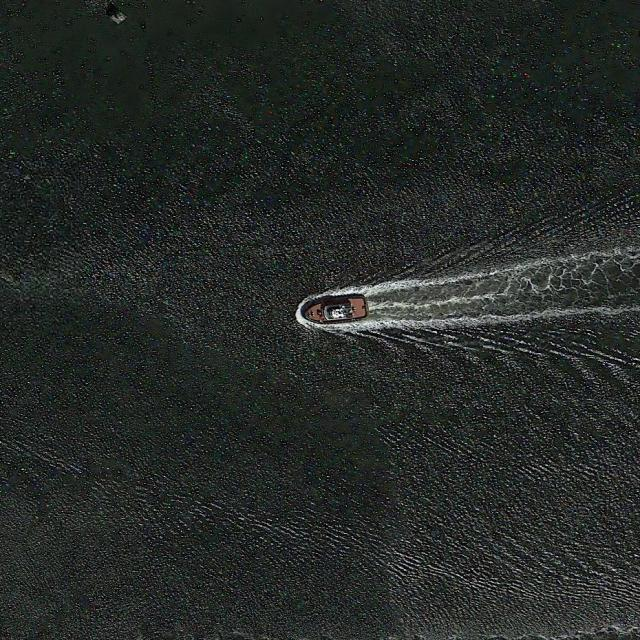Hovercraft: (299, 295, 369, 326)
